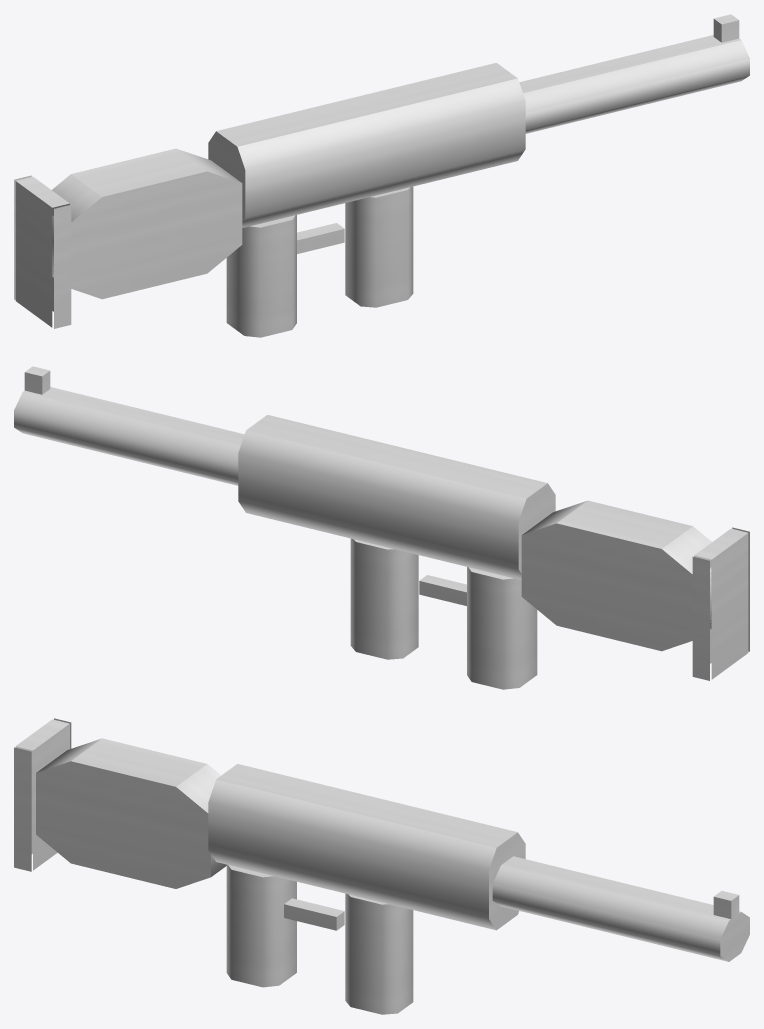
The model's file is chain_shotgun.obj.
The picture shows the model from 3 angles, top to bottom: view 1: azimuth 30°, elevation 25°; view 2: azimuth 150°, elevation 25°; view 3: azimuth 330°, elevation 25°; orthographic projection.
Visible parts, largest first — view 1: receiver, stock_or_grip, barrel_muzzle, butt_or_trigger, magazine_or_foregrip, grip_or_magazine, trigger_bridge, front_sight; view 2: receiver, stock_or_grip, barrel_muzzle, butt_or_trigger, magazine_or_foregrip, grip_or_magazine, trigger_bridge, front_sight; view 3: receiver, stock_or_grip, barrel_muzzle, grip_or_magazine, magazine_or_foregrip, butt_or_trigger, trigger_bridge, front_sight.
Boxes of the visible parts, left/top/right/bottom form: receiver: left=208, top=63, right=525, bottom=227; stock_or_grip: left=52, top=148, right=242, bottom=299; barrel_muzzle: left=519, top=35, right=749, bottom=133; butt_or_trigger: left=14, top=175, right=71, bottom=328; magazine_or_foregrip: left=345, top=186, right=413, bottom=307; grip_or_magazine: left=226, top=215, right=296, bottom=337; trigger_bridge: left=297, top=223, right=344, bottom=253; front_sight: left=713, top=14, right=739, bottom=42; receiver: left=238, top=415, right=555, bottom=579; stock_or_grip: left=521, top=500, right=711, bottom=651; barrel_muzzle: left=14, top=387, right=244, bottom=485; butt_or_trigger: left=692, top=527, right=749, bottom=680; magazine_or_foregrip: left=350, top=538, right=418, bottom=659; grip_or_magazine: left=467, top=567, right=537, bottom=689; trigger_bridge: left=419, top=575, right=466, bottom=605; front_sight: left=24, top=366, right=50, bottom=394; receiver: left=208, top=764, right=525, bottom=930; stock_or_grip: left=36, top=738, right=226, bottom=888; barrel_muzzle: left=492, top=856, right=749, bottom=961; grip_or_magazine: left=226, top=864, right=296, bottom=987; magazine_or_foregrip: left=345, top=893, right=413, bottom=1014; butt_or_trigger: left=14, top=718, right=71, bottom=871; trigger_bridge: left=284, top=898, right=344, bottom=930; front_sight: left=713, top=891, right=739, bottom=918.
Bounding box in the file's own units: 0.8 × 0.21 × 0.0788.
